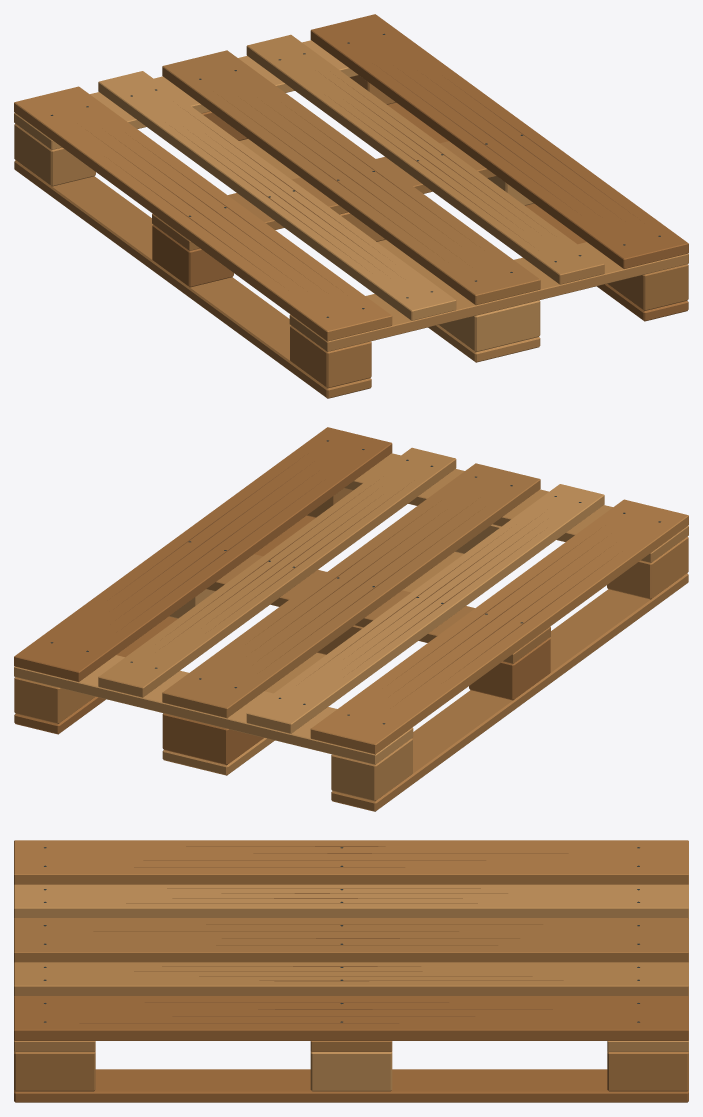
File: euro_pallet.dae
3 views of the same model, one above another, from view 1: azimuth 30°, elevation 25°; view 2: azimuth 150°, elevation 25°; view 3: azimuth 270°, elevation 25° (orthographic). The views are drawn at different scales.
Parts seen in each view (by area): view 1: model; view 2: model; view 3: model.
Boxes of the visible parts, x1,y1,x2,y2 form: model: (14,14,688,398); model: (14,427,688,811); model: (14,840,688,1102).
Size of the model in its own units: 0.8 by 1.2 by 0.1441.
